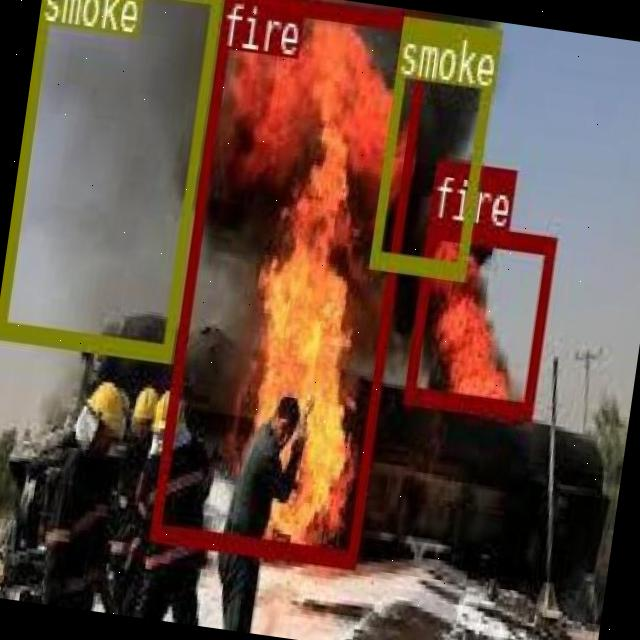fire: (148, 0, 431, 566), (403, 217, 556, 416)
smoke: (0, 0, 220, 359), (368, 14, 497, 280)
